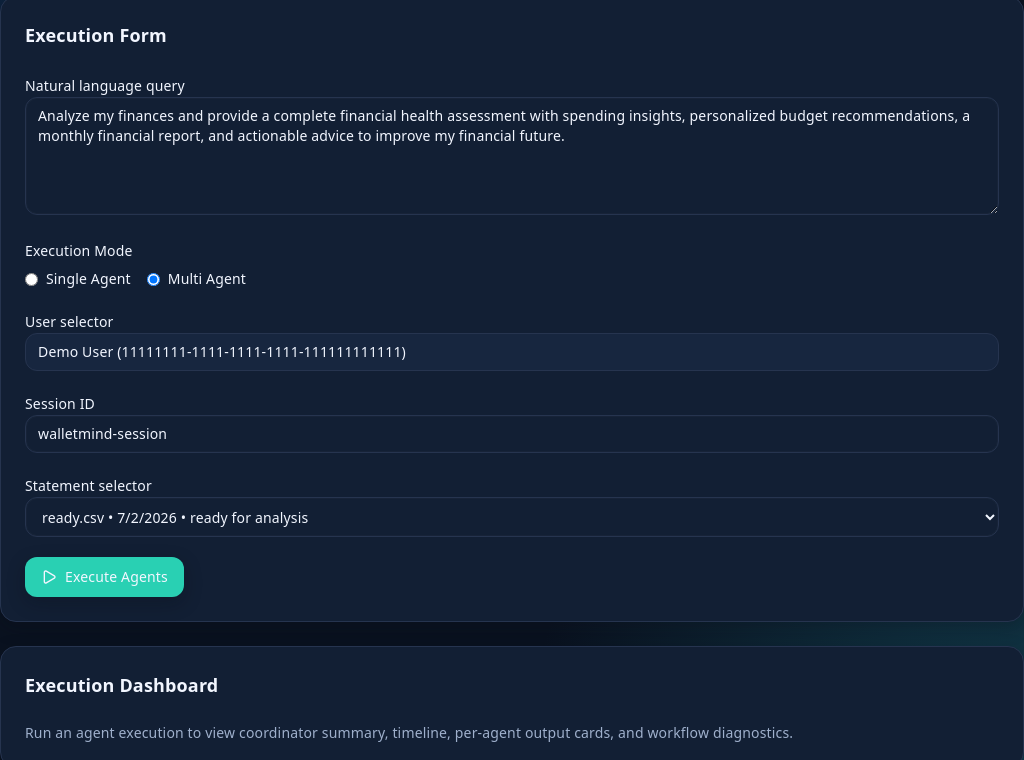
Test: AppAgentPlaygroundPage - Sprint 2.3.4 › keeps API error notification visible after 5 seconds until manually dismissed
The width and height of the screenshot is (1024, 760).
(page scrolled)
Click the button "Execute Agents" at (104, 577), box x1=25 y1=557 x2=184 y2=597
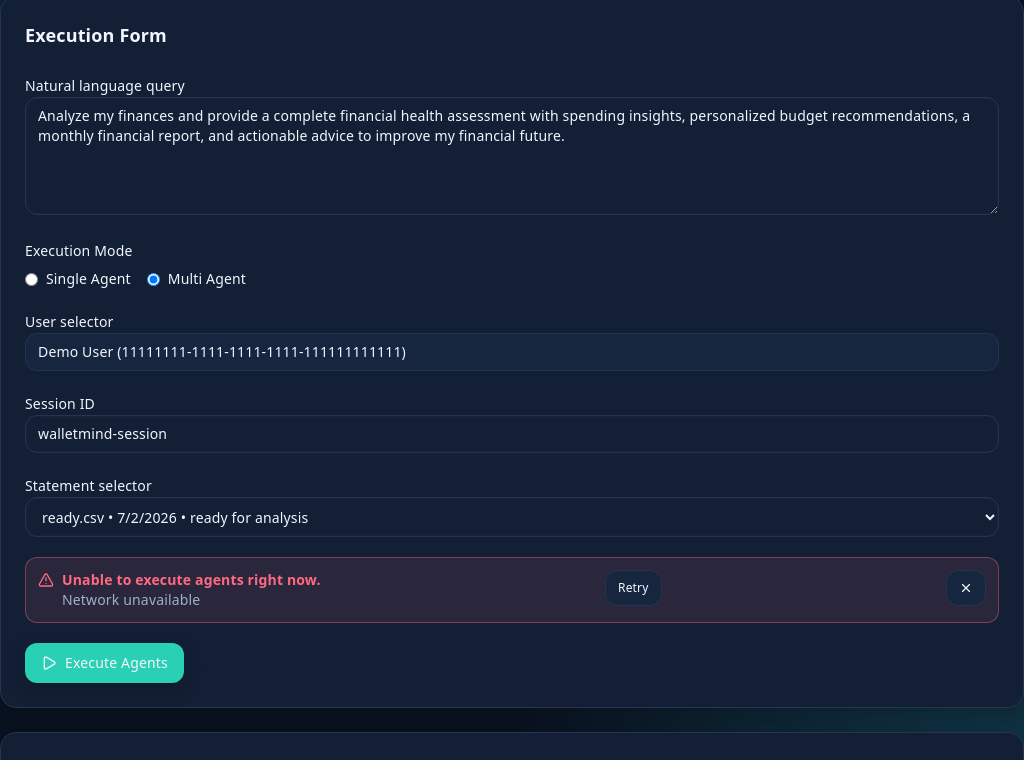
Check: the text "Unable to execute agents right now." is shown, box x1=62 y1=570 x2=321 y2=590
Click the button named "Dismiss error notification" at (966, 588), box x1=946 y1=570 x2=986 y2=606
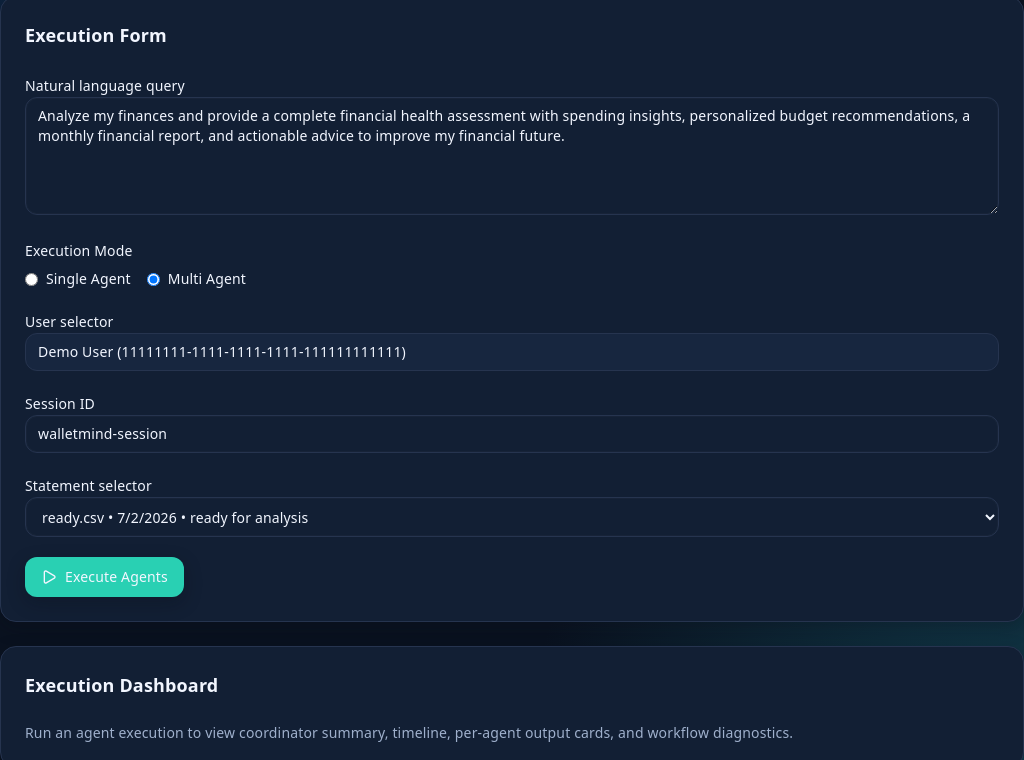
Check: the text "Unable to execute agents right now." is gone
